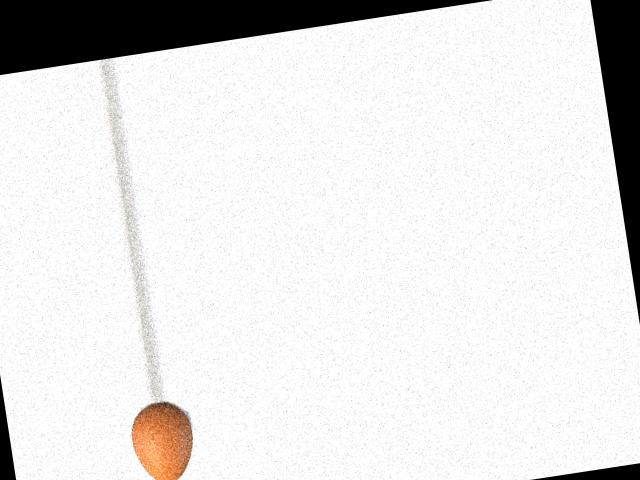egg: (127, 398, 199, 480)
